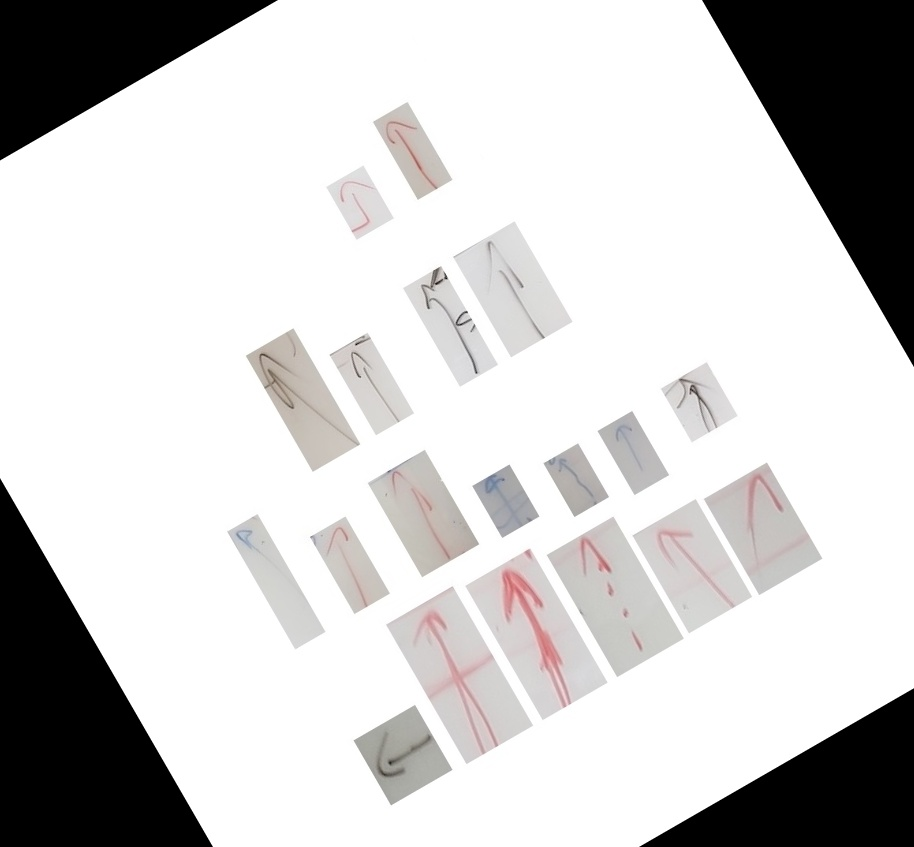arrow: (389, 589, 510, 692), (272, 715, 368, 835), (336, 627, 415, 764), (375, 264, 481, 355), (290, 484, 391, 571), (559, 540, 658, 624), (623, 505, 725, 573), (248, 370, 332, 438), (190, 362, 246, 460), (498, 556, 550, 646), (342, 300, 392, 386), (146, 545, 214, 604), (518, 440, 588, 497), (580, 397, 655, 446), (389, 494, 458, 542), (247, 547, 290, 623), (463, 475, 528, 525), (312, 136, 350, 201), (247, 198, 307, 238)
